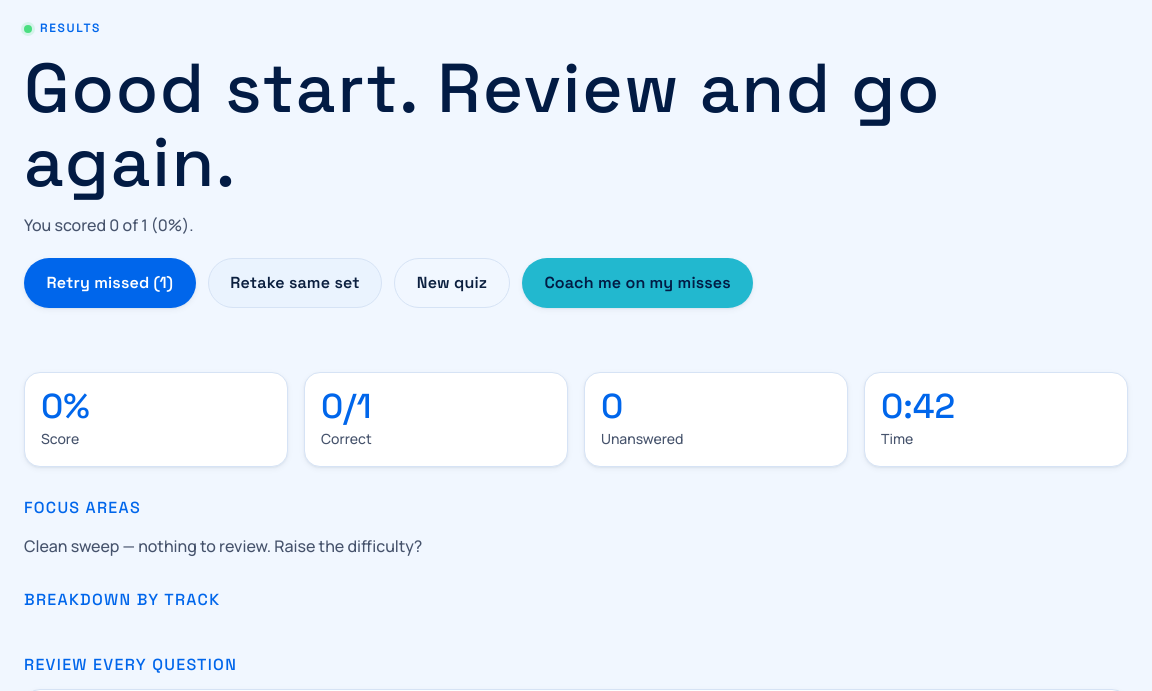
ResultsScreen AI coach › requests coaching for the missed questions and renders the result
The image size is (1152, 691).
Click the button "Coach me on my misses" at [638, 283], box [522, 258, 754, 308]
(page scrolled)
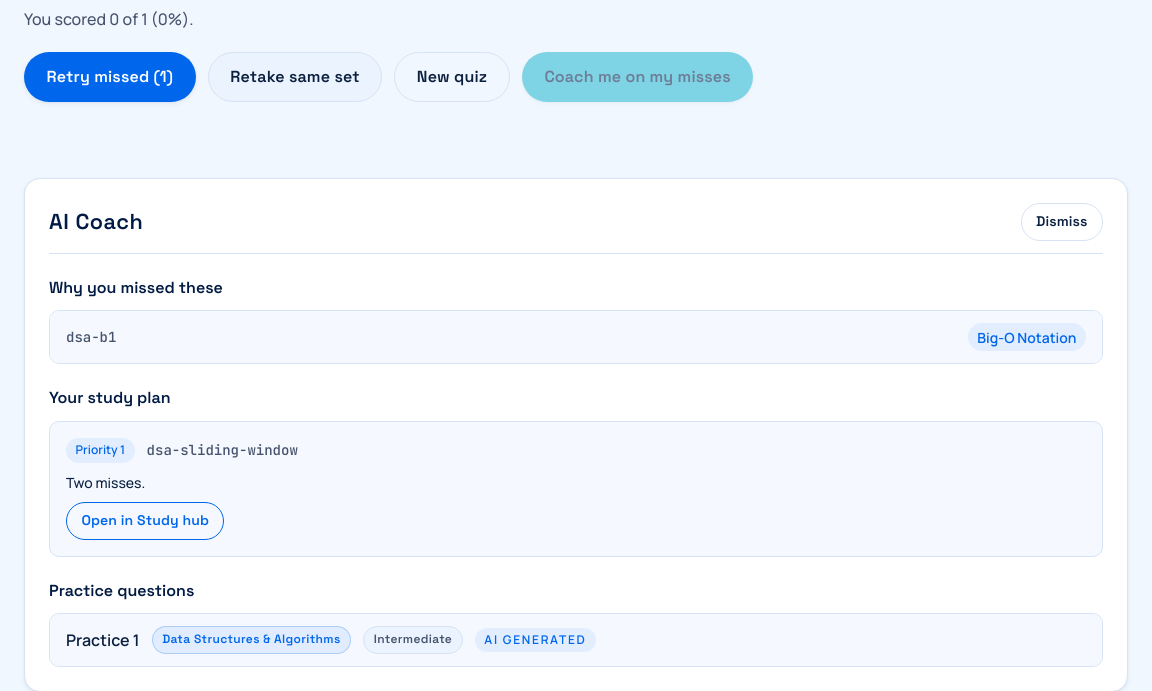
Result: the heading "Why you missed these" is shown at [49, 276, 223, 298]
Result: the heading "Your study plan" is shown at [49, 387, 170, 408]
